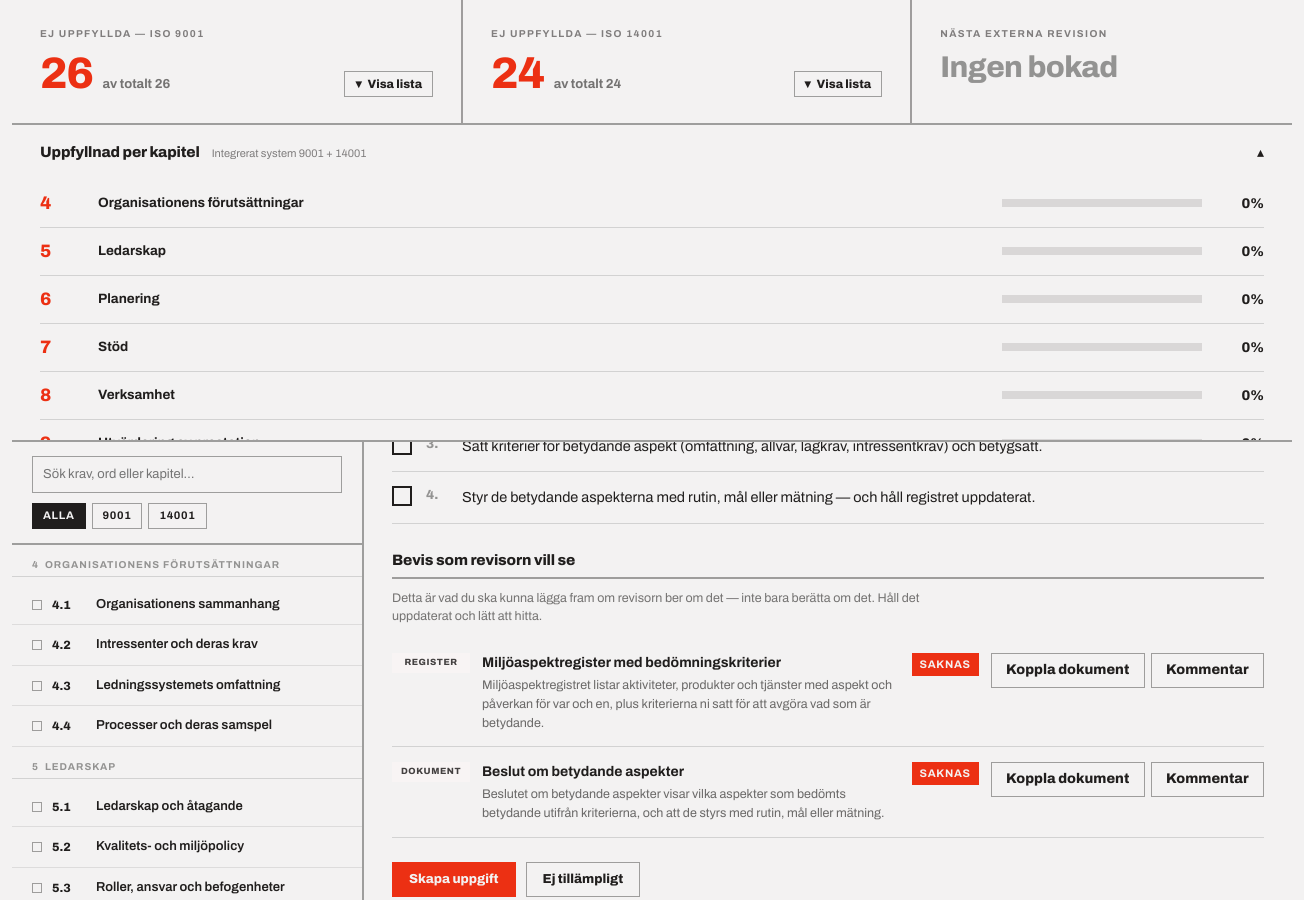
Test case: commenting on evidence › removes a comment with its own remove button
(page scrolled)
Click the 1st button "Kommentar".
click(1207, 670)  # box [1151, 653, 1264, 688]
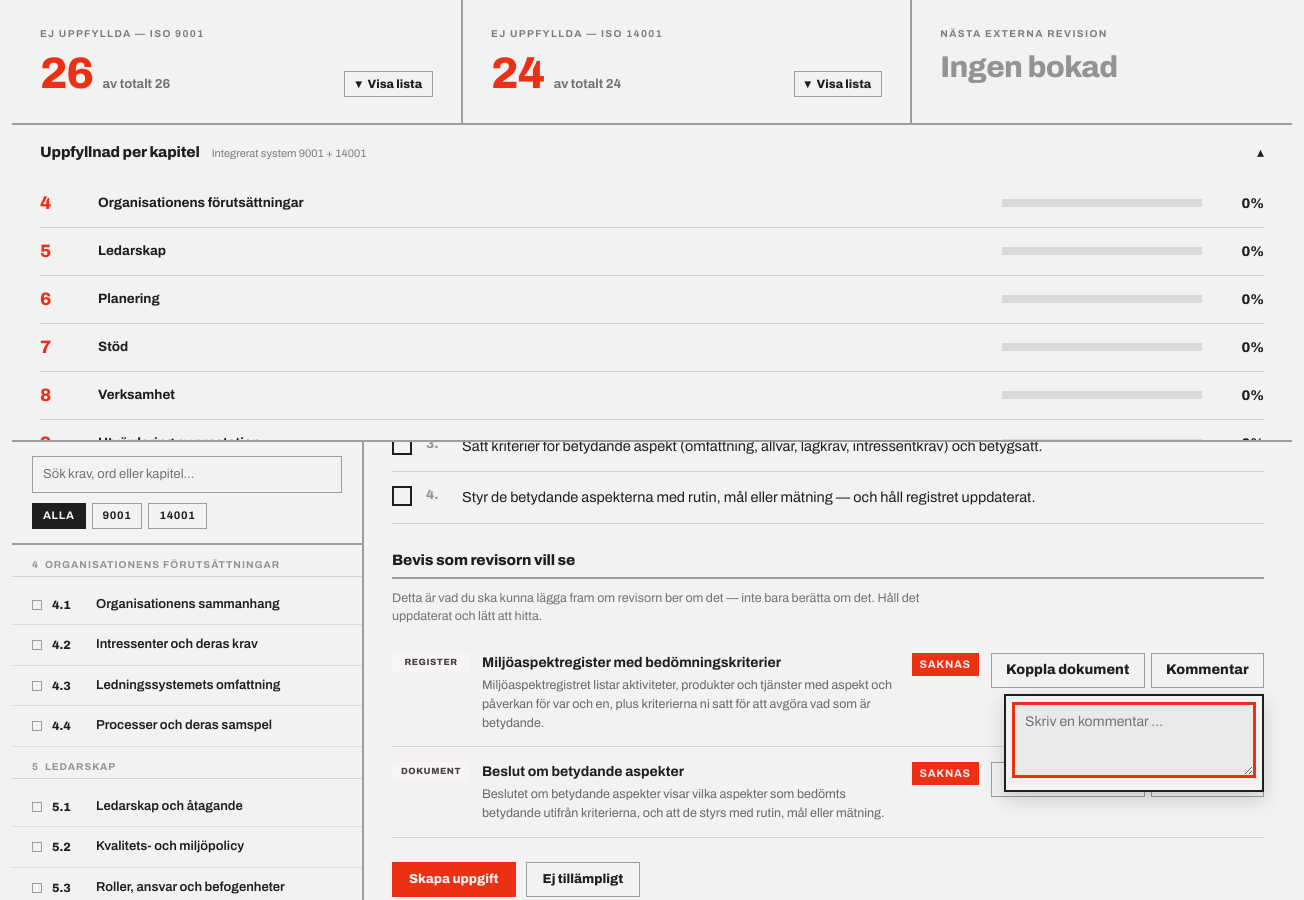
Type "Se pärmen." into the text box named "Kommentar till bevispunkten".
click(1134, 740); type("Se pärmen.")  # box [1014, 704, 1254, 776]
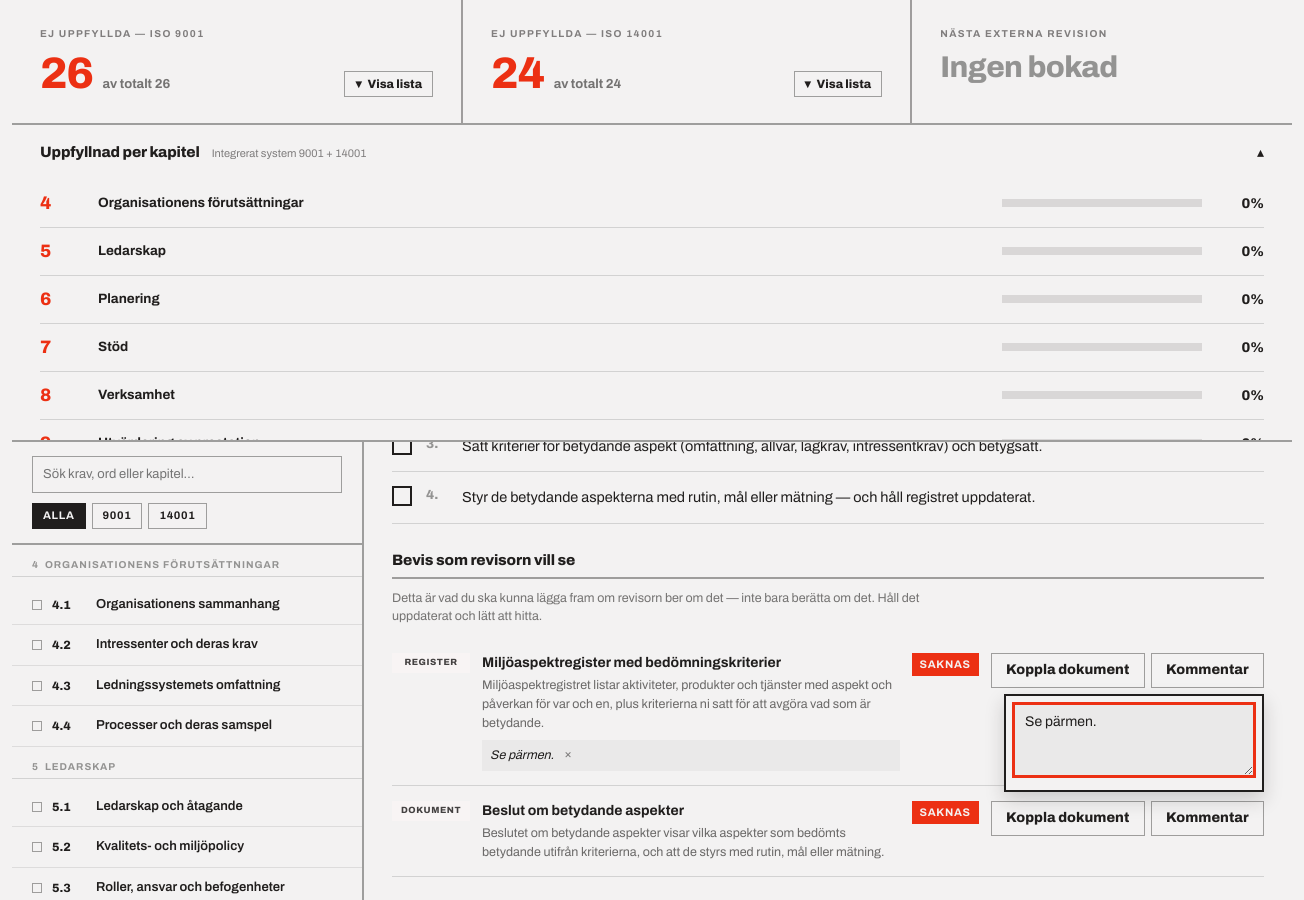
Press Escape
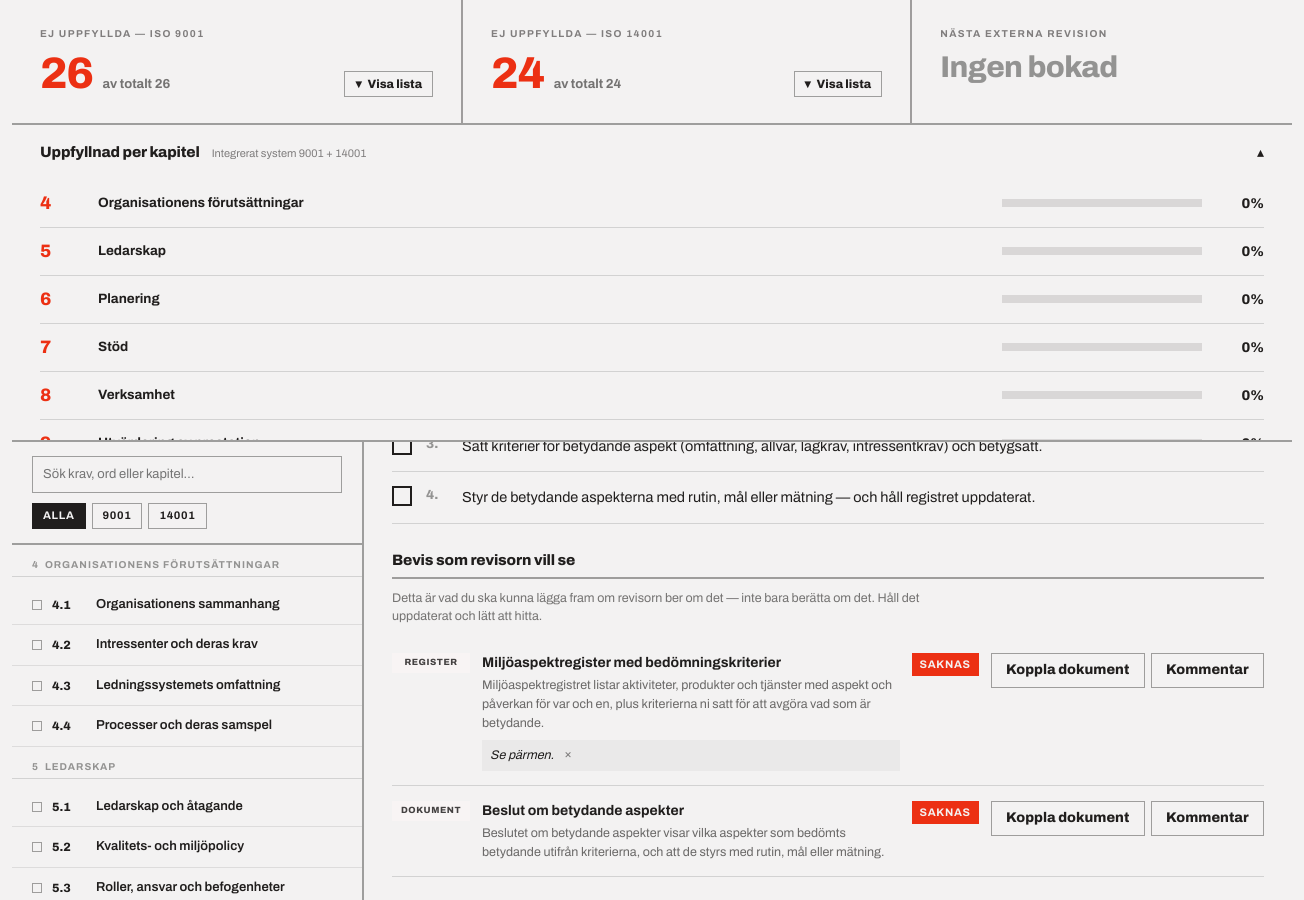
Expected: the text "Se pärmen." is shown, [490, 748, 554, 762]
Click the button named "Ta bort kommentar".
click(568, 754)  # box [560, 746, 576, 762]
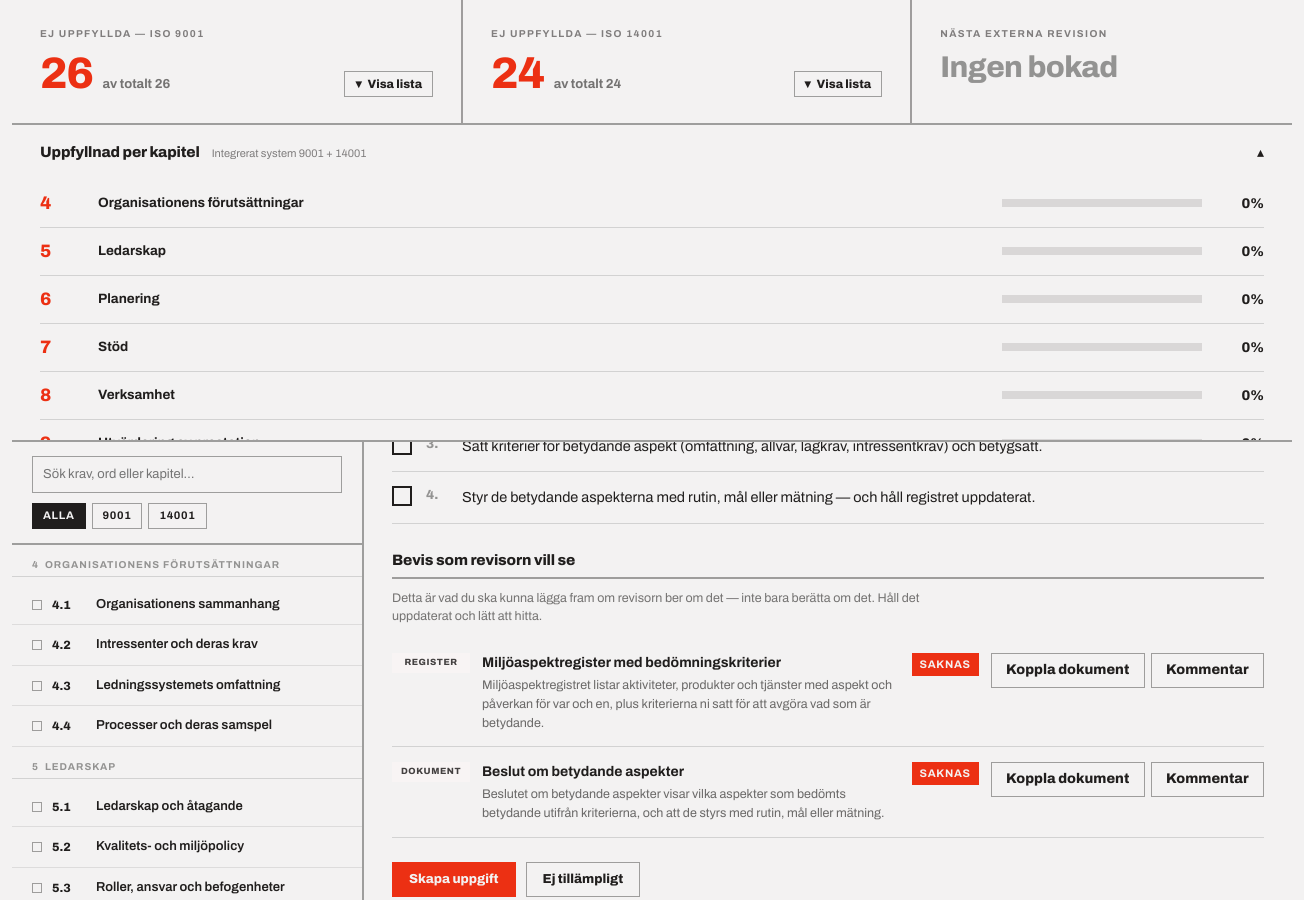
Expected: the text "Se pärmen." is gone
